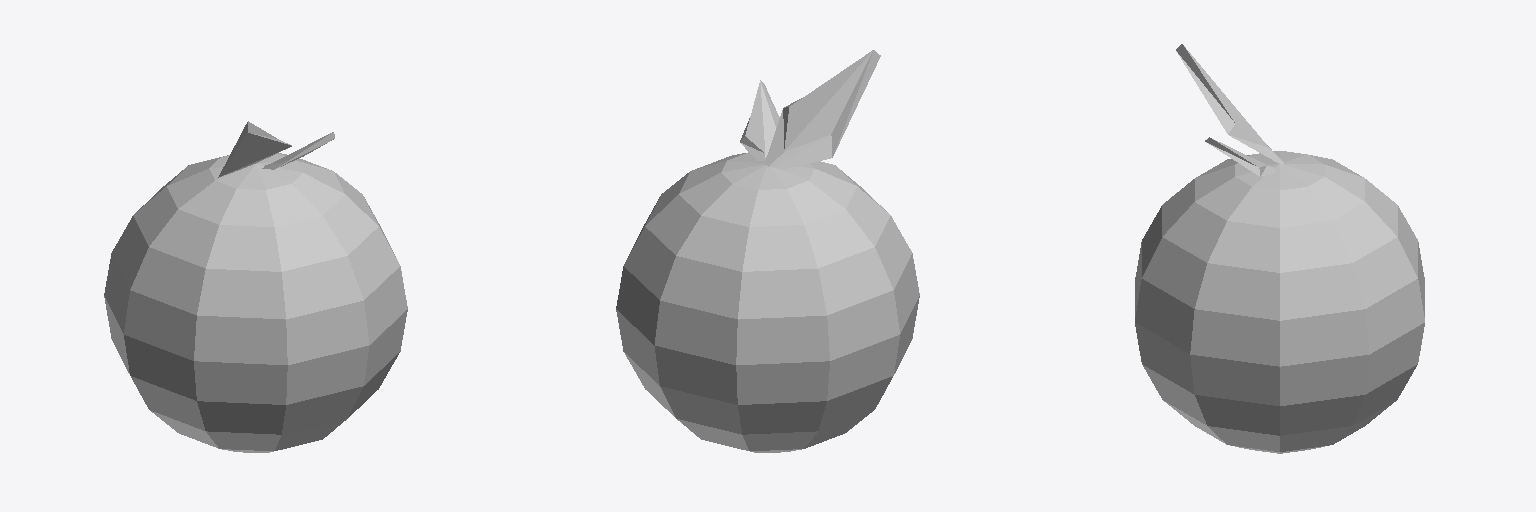
Rendered from Orange1_model.obj.
3 renders of one model, left to right at view 1: azimuth 30°, elevation 25°; view 2: azimuth 150°, elevation 25°; view 3: azimuth 270°, elevation 25°, orthographic.
Visible parts, largest first — view 1: pSphere2, pCube2, pCube3; view 2: pSphere2, pCube2, pCube3; view 3: pSphere2, pCube2, pCube3.
Boxes of the visible parts, box(x1,y1,x2,y2) form: pSphere2: box(104, 153, 407, 452); pCube2: box(218, 121, 291, 177); pCube3: box(262, 132, 334, 169); pSphere2: box(616, 152, 919, 452); pCube2: box(764, 50, 880, 169); pCube3: box(740, 80, 779, 160); pSphere2: box(1135, 151, 1424, 453); pCube2: box(1176, 44, 1283, 165); pCube3: box(1205, 137, 1274, 176).
Size of the model in its own units: 2 by 2.67 by 1.9.